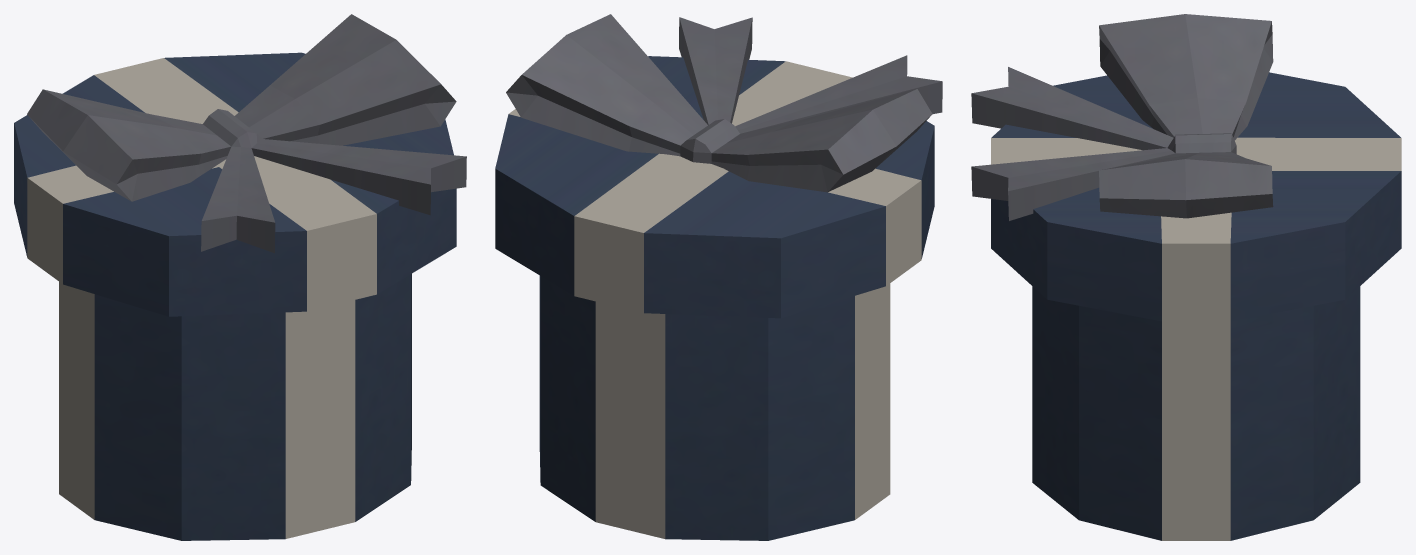
Rendered from gift_box_C_Round.obj.
3 renders of one model, left to right at view 1: azimuth 30°, elevation 25°; view 2: azimuth 150°, elevation 25°; view 3: azimuth 270°, elevation 25°, orthographic. The views are drawn at different scales.
Visible parts, largest first — view 1: gift_box_C_Round; view 2: gift_box_C_Round; view 3: gift_box_C_Round.
Part boxes in pixels (box(x1,y1,x2,y2)): gift_box_C_Round: box(14, 14, 466, 540); gift_box_C_Round: box(495, 14, 942, 540); gift_box_C_Round: box(971, 14, 1401, 540).
Size of the model in its own units: 0.4597 by 0.4562 by 0.4677.
